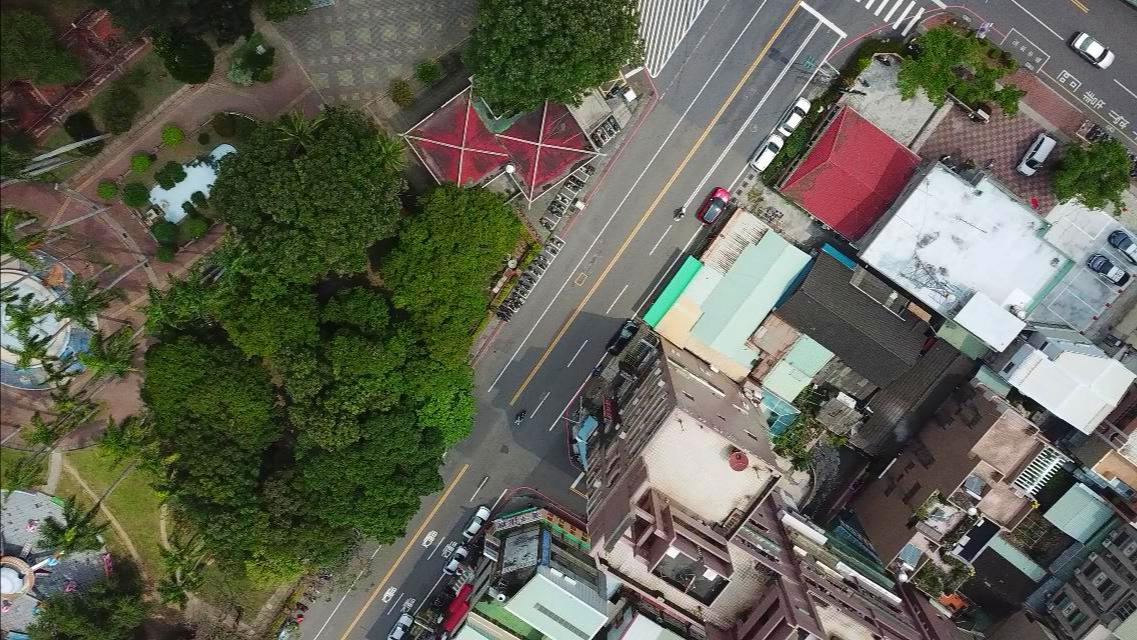vehicle: (1016, 132, 1058, 177), (1070, 32, 1114, 69), (1086, 252, 1131, 287), (696, 186, 730, 227), (777, 97, 811, 137), (605, 318, 639, 357), (749, 135, 783, 173), (1107, 230, 1136, 267), (460, 506, 491, 539), (442, 546, 469, 576), (387, 613, 414, 639)
